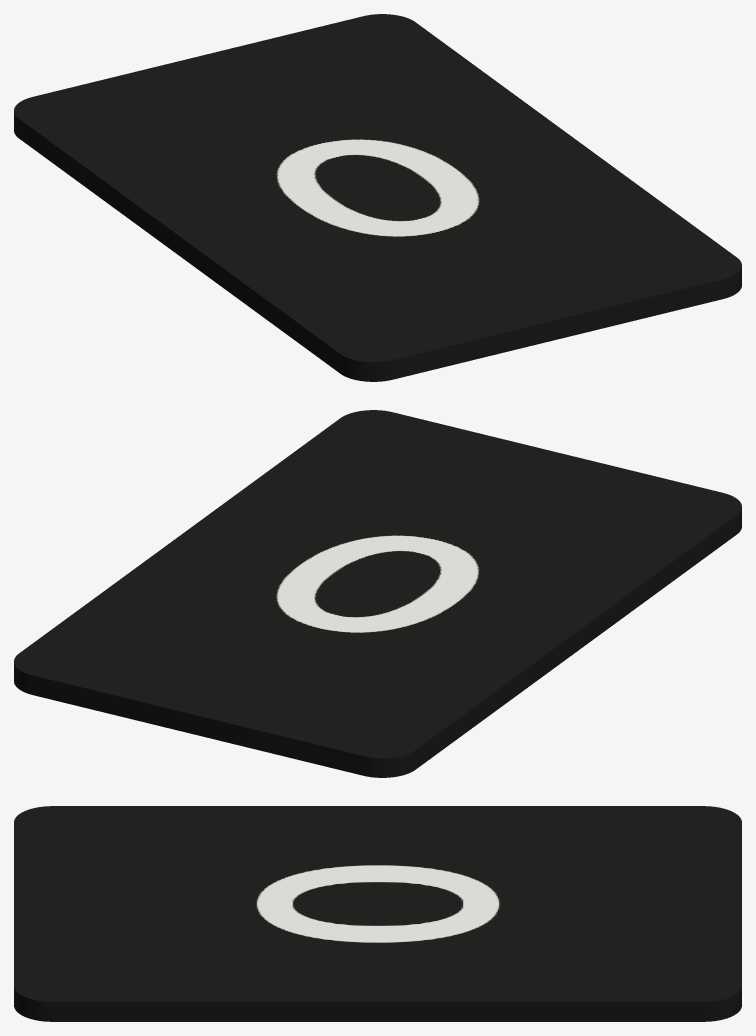
Rendered from black_0.glb.
3 views of the same model, one above another, from view 1: azimuth 30°, elevation 25°; view 2: azimuth 150°, elevation 25°; view 3: azimuth 270°, elevation 25° (orthographic).
Parts seen in each view (by area): view 1: black_0; view 2: black_0; view 3: black_0.
Boxes of the visible parts, left/top/right/bottom form: black_0: left=14, top=14, right=741, bottom=381; black_0: left=14, top=410, right=741, bottom=777; black_0: left=14, top=806, right=741, bottom=1021.
Size of the model in its own units: 0.042 by 0.002 by 0.066.
Materials: 2 (1 with a texture image).
